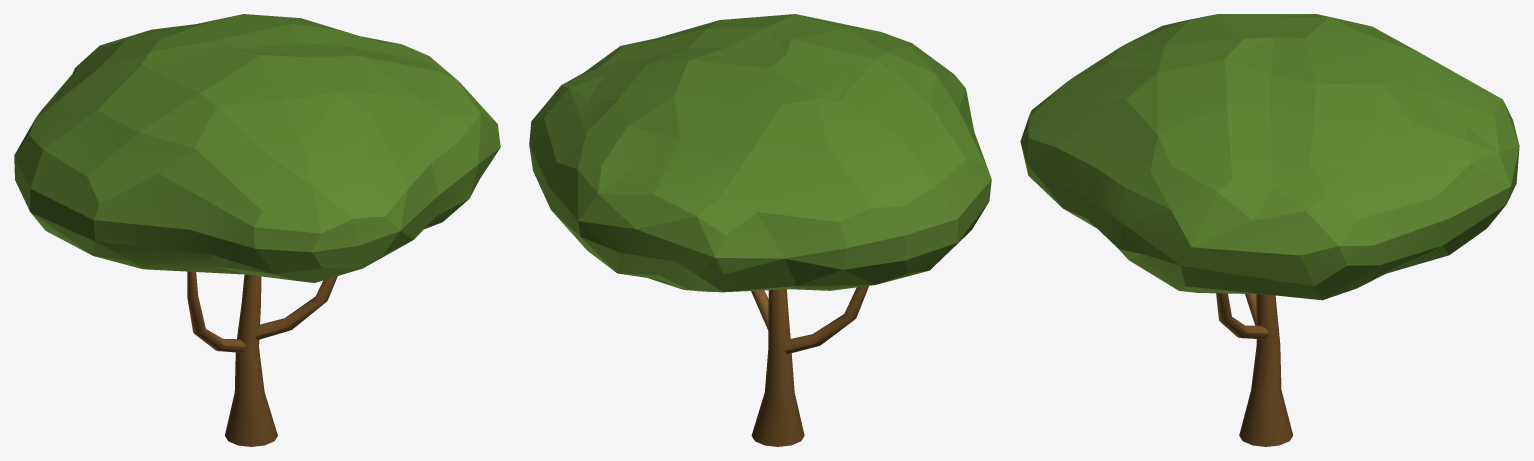
The model's file is árvore.fbx.
3 renders of one model, left to right at view 1: azimuth 30°, elevation 25°; view 2: azimuth 150°, elevation 25°; view 3: azimuth 270°, elevation 25°, orthographic.
Visible parts, largest first — view 1: Folha, Tronco; view 2: Folha, Tronco; view 3: Folha, Tronco.
Part boxes in pixels (box(x1,y1,x2,y2)): Folha: box(14, 14, 500, 282); Tronco: box(187, 271, 337, 446); Folha: box(529, 14, 991, 292); Tronco: box(751, 286, 868, 446); Folha: box(1020, 14, 1519, 300); Tronco: box(1216, 293, 1293, 446).
Size of the model in its own units: 946 by 846 by 967.
Materials: 2 (2 with a texture image).
